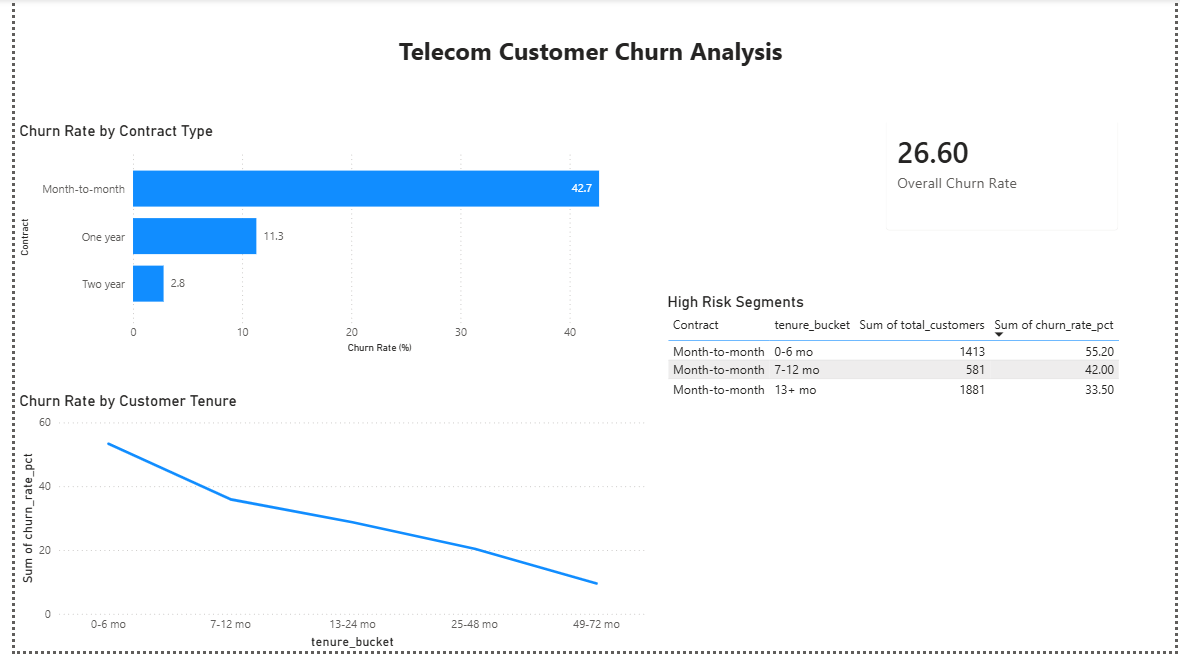

Layout of this report page (visuals, bound fields, positions):
{"tool":"powerbi","page":{"name":"Page 1","canvas":[1280,720],"ordinal":0},"visuals":[{"type":"cardVisual","fields":{"Data":["churn_cleaned.Overall Churn Rate"]},"box":[943.8,85.1,291.6,188.4],"z":0},{"type":"clusteredBarChart","title":"Churn Rate by Contract Type","fields":{"Category":["churn_by_contract.Contract"],"Y":["Sum(churn_by_contract.churn_rate_pct)"]},"box":[0,135.7,686.6,259.2],"z":1},{"type":"lineChart","title":"Churn Rate by Customer Tenure","fields":{"Category":["churn_by_tenure.tenure_bucket"],"Y":["Sum(churn_by_tenure.churn_rate_pct)"]},"box":[0,433.4,700.8,287.6],"z":2},{"type":"tableEx","title":"High Risk Segments","fields":{"Values":["churn_high_risk.Contract","churn_high_risk.tenure_bucket","Sum(churn_high_risk.total_customers)","Sum(churn_high_risk.churn_rate_pct)"]},"box":[714.9,324.1,565.1,216.7],"z":3},{"type":"textbox","box":[14.2,32.4,1241.5,103.3],"z":4}]}

Visuals, with their boxes in screenshot pixels (x1, y1, x2, y2), scaled from the page's 1280x720 canvas onto the 1180x655 screenshot:
cardVisual - churn_cleaned.Overall Churn Rate: 870,77,1139,249
"Churn Rate by Contract Type" clusteredBarChart: 0,123,633,359
"Churn Rate by Customer Tenure" lineChart: 0,394,646,654
"High Risk Segments" tableEx: 659,295,1179,492
textbox: 13,29,1158,123
